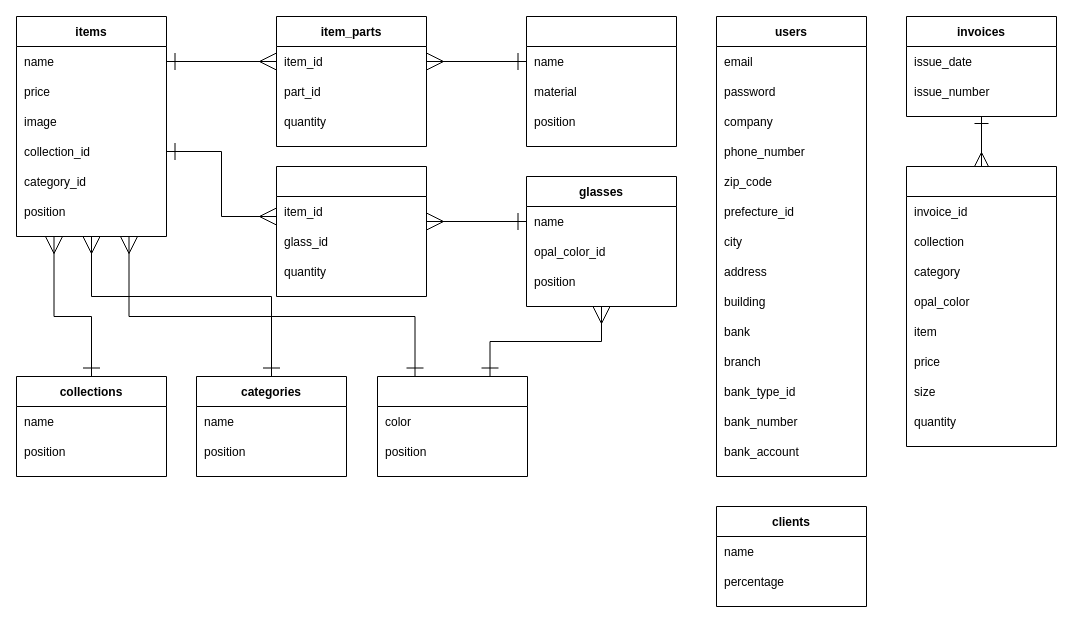
This 1073x623 diagram has some shape labels left out. The box of each missing label's shape, as (x1, y1, x2, y2) in pixels:
invoice_items: (906, 166, 1056, 446)
item_grasses: (276, 166, 426, 296)
opal_colors: (376, 376, 528, 476)
parts: (526, 16, 676, 146)
